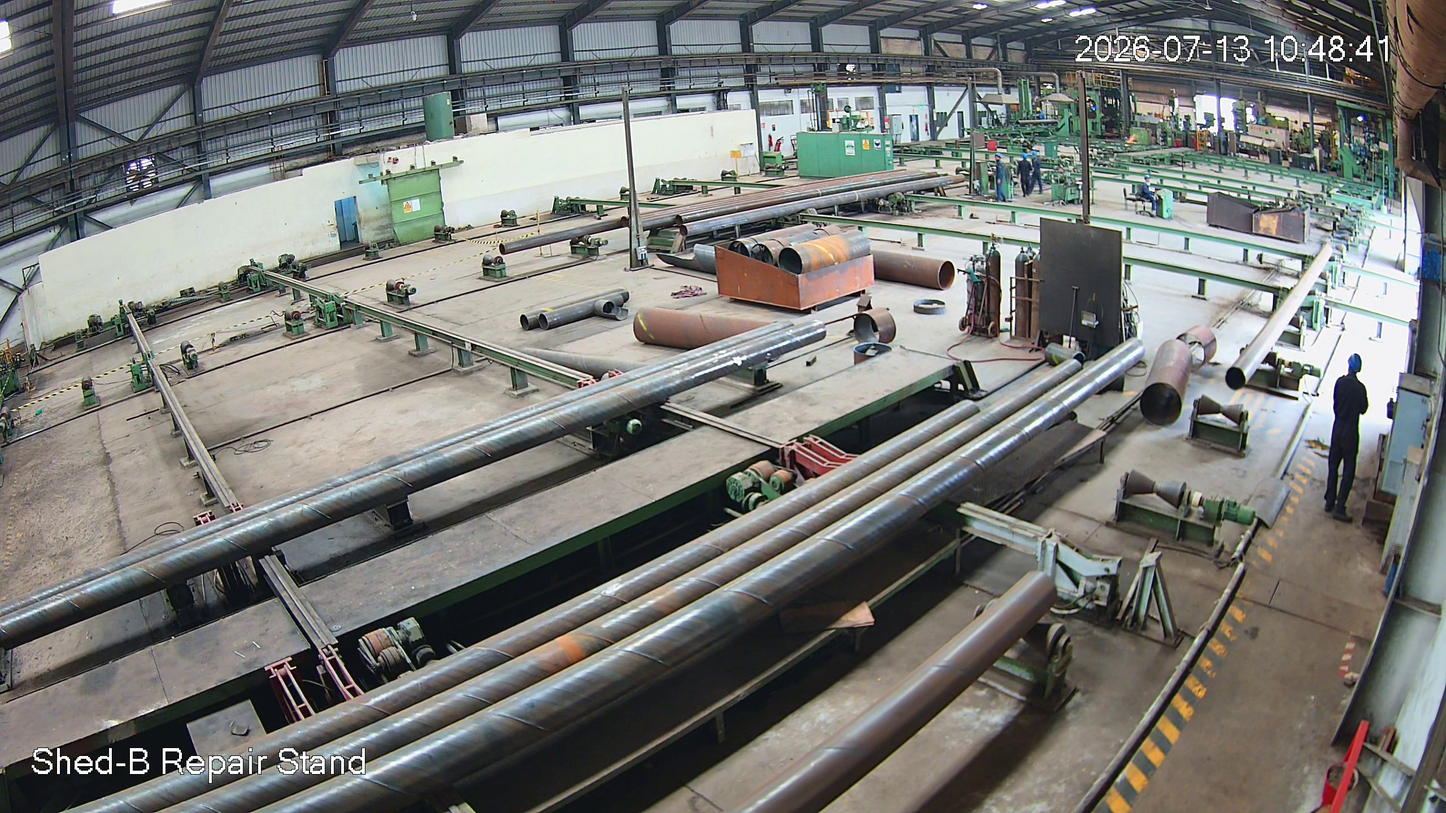Helmet: (1344, 353, 1368, 385)
Person: (1322, 354, 1370, 525)
